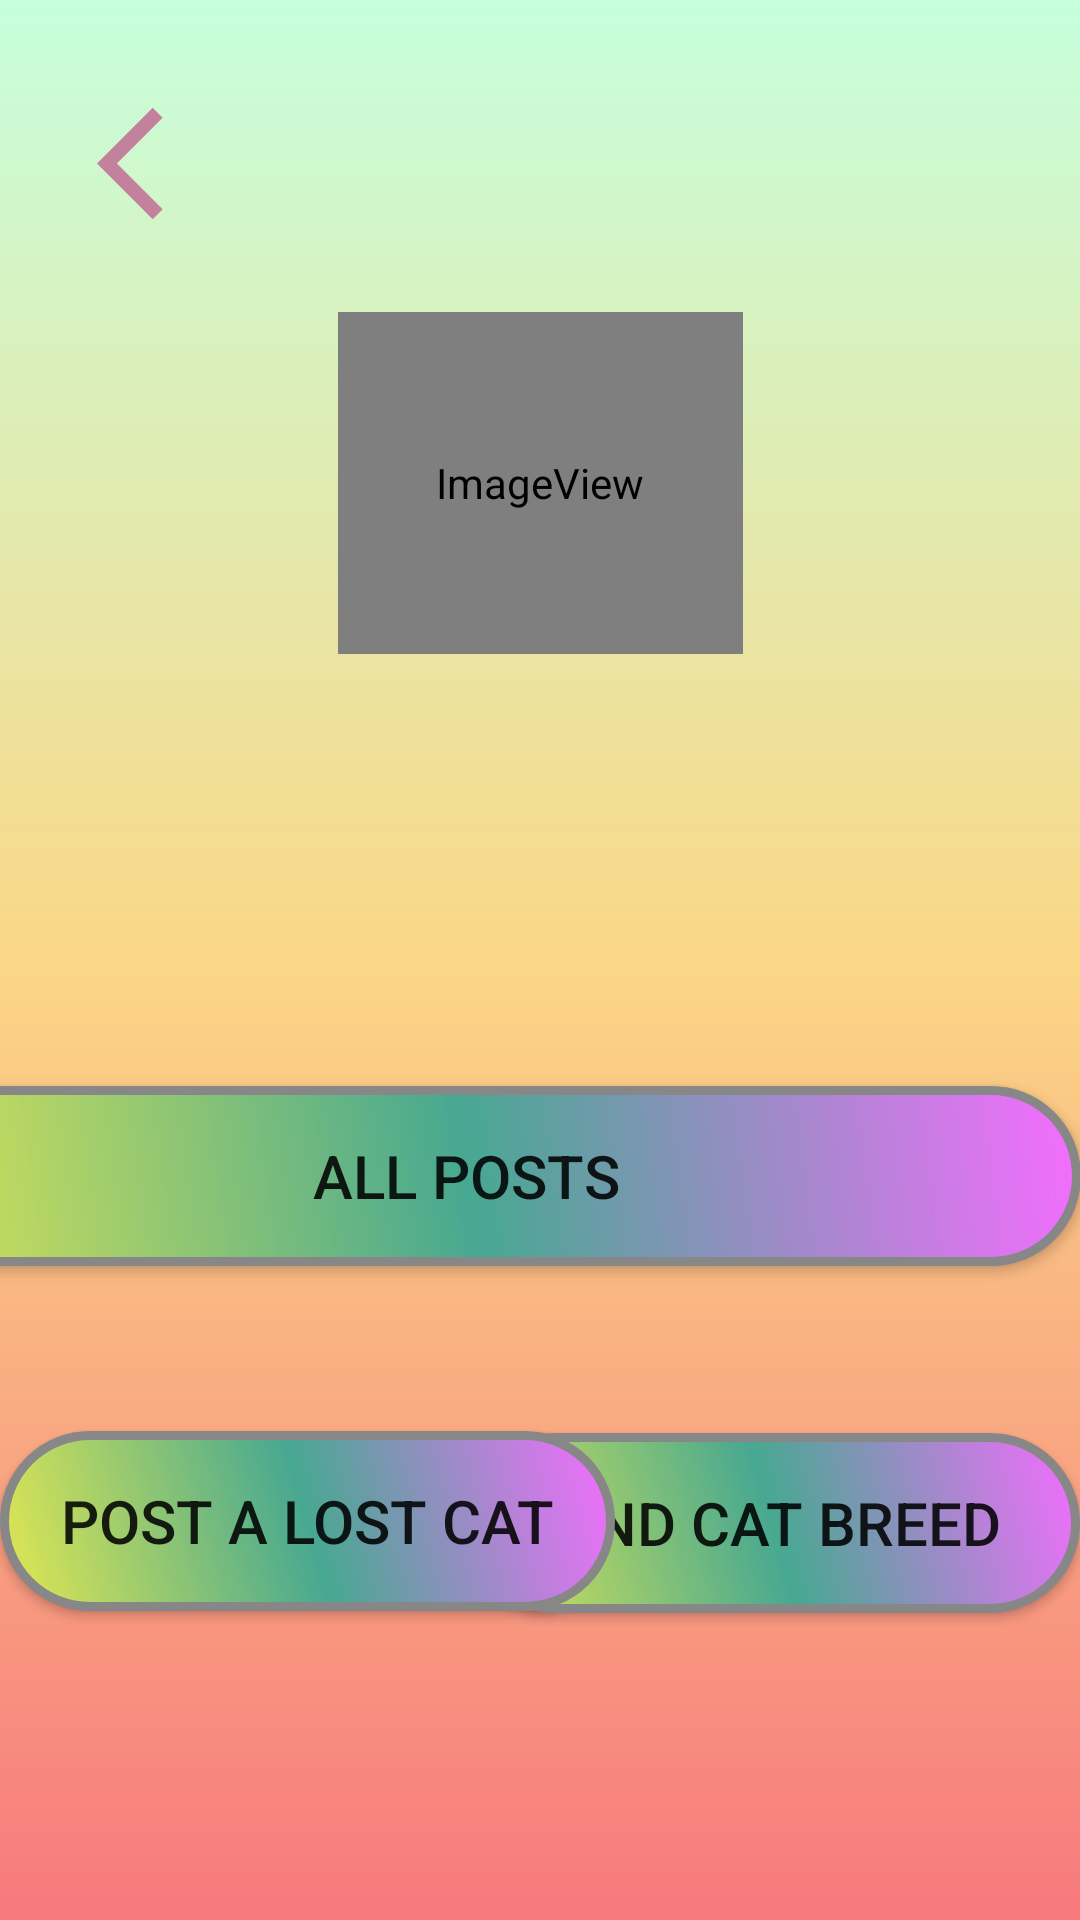

Icons on this 1080×1920 Android screen, each with its box as bbox=[x1, y1, x2, y2]:
arrow back: bbox=[97, 108, 163, 219]
